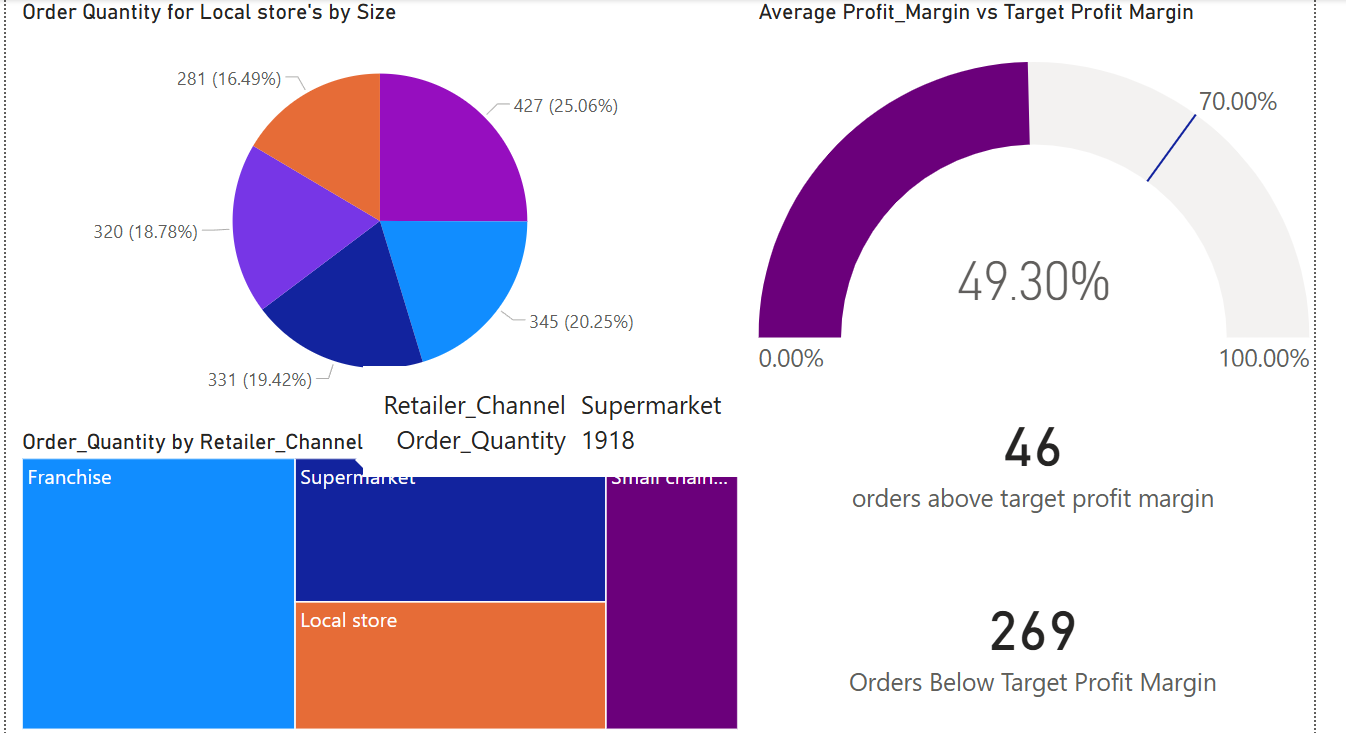

The dashboard page shown, as its layout file describes it:
{"tool":"powerbi","page":{"name":"Shares","canvas":[1280,720],"ordinal":5},"visuals":[{"type":"pieChart","title":" Order Quantity for Local store''s by Size","fields":{"Category":["Products.Product_Size"],"Y":["Sum(Orders. Order_Quantity )"]},"box":[10.7,0,710.2,410.7],"z":0},{"type":"treemap","fields":{"Values":["Sum(Orders. Order_Quantity )"],"Group":["Retailers.Retailer_Channel","Products.Product_Size"]},"box":[11,421,710,299],"z":1000},{"type":"gauge","title":"Average Profit_Margin vs Target Profit Margin","fields":{"Y":["Avg(Orders.Profit_Margin)"],"MaxValue":["Orders.Maximum Profit Margin"],"TargetValue":["Orders.Target Profit Margin"]},"box":[731,0,549,411],"z":2000},{"type":"card","fields":{"Values":["Orders.orders above target profit margin"]},"box":[789.3,359.4,432.1,175.4],"z":3000},{"type":"card","fields":{"Values":["Orders.Orders Below Target Profit Margin"]},"box":[789,534,432,186],"z":4000}]}

Visuals, with their boxes on the page's 1280x720 design canvas (x1, y1, x2, y2). These are canvas units, not pixel positions in the 1346x733 screenshot, which may show the page scaled, cropped or inside an application window:
" Order Quantity for Local store''s by Size" pieChart: 11/0/721/411
treemap - Sum(Orders. Order_Quantity ) x Retailers.Retailer_Channel: 11/421/721/720
"Average Profit_Margin vs Target Profit Margin" gauge: 731/0/1280/411
card - Orders.orders above target profit margin: 789/359/1221/535
card - Orders.Orders Below Target Profit Margin: 789/534/1221/720
